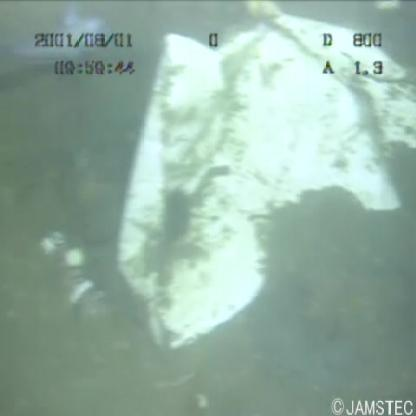Bio: (1, 1, 130, 75)
Rác: (92, 16, 416, 356)
